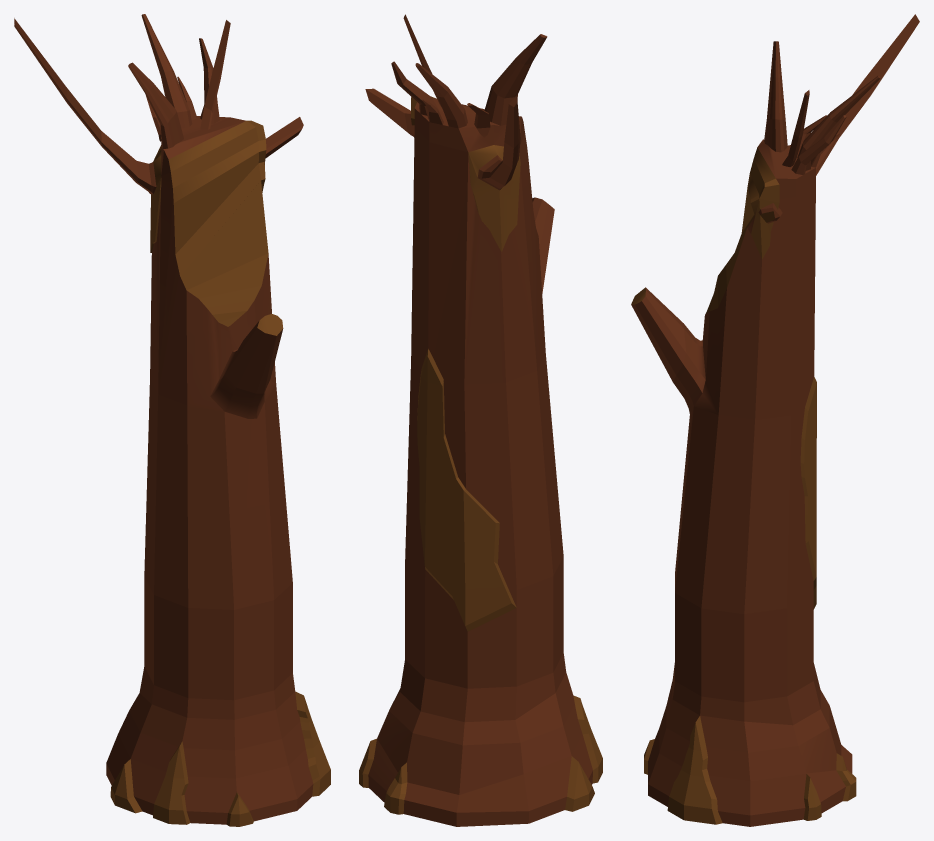
The model's file is Tree_A_Burnt.fbx.
3 views of the same model, side by side, from view 1: azimuth 30°, elevation 25°; view 2: azimuth 150°, elevation 25°; view 3: azimuth 270°, elevation 25° (orthographic). The views are drawn at different scales.
Visible parts, largest first — view 1: polySurface8; view 2: polySurface8; view 3: polySurface8.
Part boxes in pixels (x1,y1,x2,y2): polySurface8: (14, 14, 330, 826); polySurface8: (359, 14, 602, 826); polySurface8: (631, 14, 919, 826).
Size of the model in its own units: 27.58 by 89.88 by 33.01.
